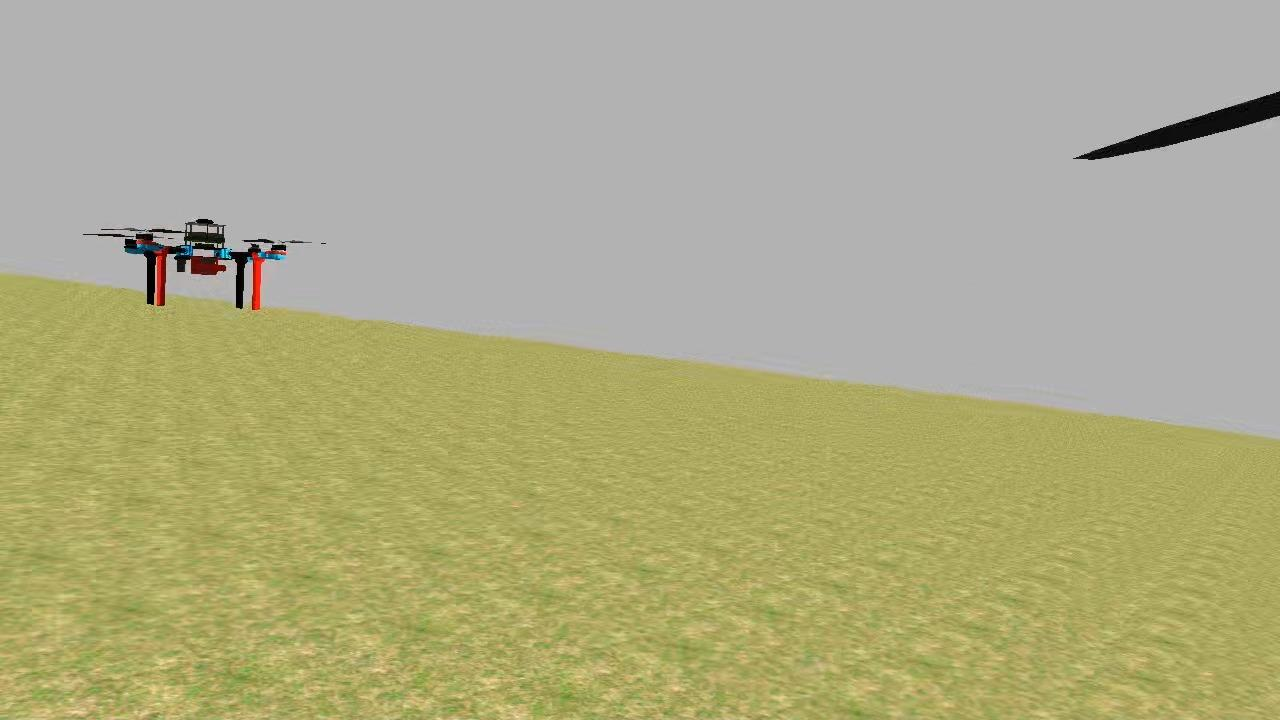UAV: (108, 210, 300, 322)
